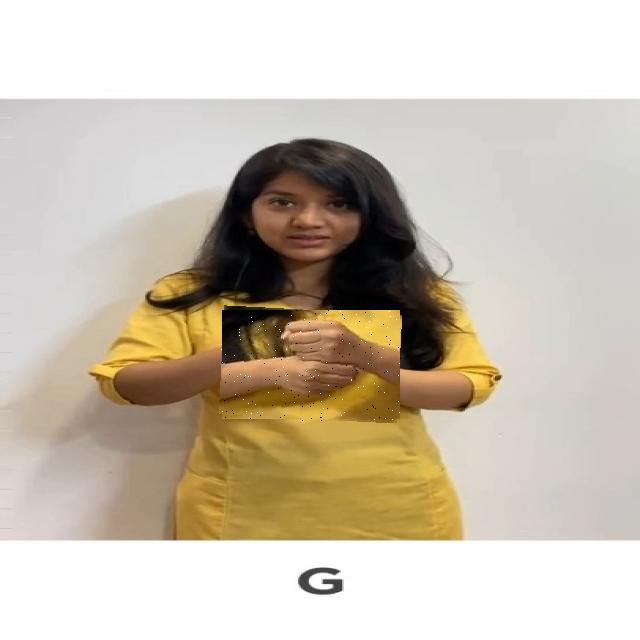G: (221, 308, 401, 421)
